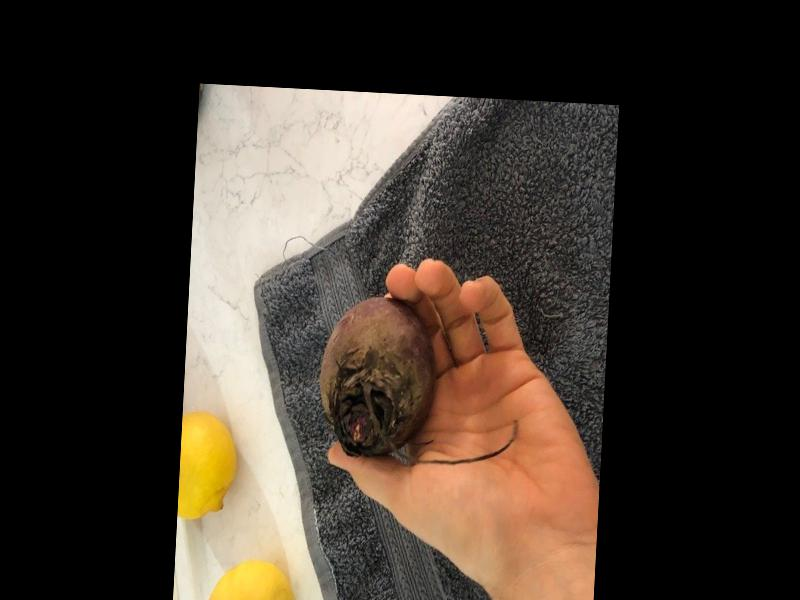Beet: (315, 291, 523, 464)
